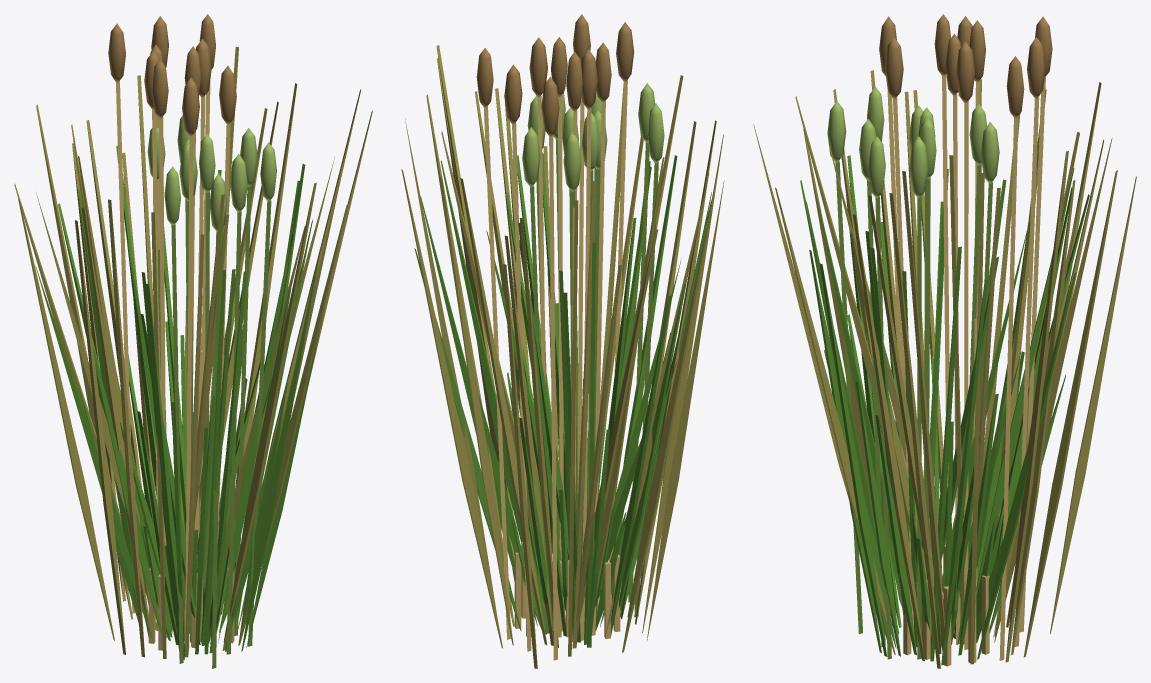
Rendered from Crop_Grain_Rye.fbx.
3 views of the same model, side by side, from view 1: azimuth 30°, elevation 25°; view 2: azimuth 150°, elevation 25°; view 3: azimuth 270°, elevation 25° (orthographic). The views are drawn at different scales.
Visible parts, largest first — view 1: Crop_Grain_Rye__S4, Crop_Grain_Rye__S3, Crop_Grain_Rye__S2, Crop_Grain_Rye__S5, Crop_Grain_Rye__S1; view 2: Crop_Grain_Rye__S4, Crop_Grain_Rye__S3, Crop_Grain_Rye__S2, Crop_Grain_Rye__S5, Crop_Grain_Rye__S1; view 3: Crop_Grain_Rye__S4, Crop_Grain_Rye__S3, Crop_Grain_Rye__S2, Crop_Grain_Rye__S5, Crop_Grain_Rye__S1.
Boxes of the visible parts, bbox=[...] form: Crop_Grain_Rye__S4: bbox=[14, 14, 372, 658]; Crop_Grain_Rye__S3: bbox=[35, 115, 324, 668]; Crop_Grain_Rye__S2: bbox=[79, 321, 288, 655]; Crop_Grain_Rye__S5: bbox=[125, 511, 235, 650]; Crop_Grain_Rye__S1: bbox=[143, 526, 235, 643]; Crop_Grain_Rye__S4: bbox=[401, 14, 724, 668]; Crop_Grain_Rye__S3: bbox=[414, 83, 711, 647]; Crop_Grain_Rye__S2: bbox=[477, 303, 677, 647]; Crop_Grain_Rye__S5: bbox=[514, 489, 620, 644]; Crop_Grain_Rye__S1: bbox=[511, 510, 626, 630]; Crop_Grain_Rye__S4: bbox=[753, 14, 1136, 668]; Crop_Grain_Rye__S3: bbox=[800, 87, 1089, 665]; Crop_Grain_Rye__S2: bbox=[824, 314, 1065, 656]; Crop_Grain_Rye__S5: bbox=[903, 513, 997, 666]; Crop_Grain_Rye__S1: bbox=[888, 517, 1002, 653].
Bounding box in the file's own units: 0.2362 × 0.4221 × 0.2395.
